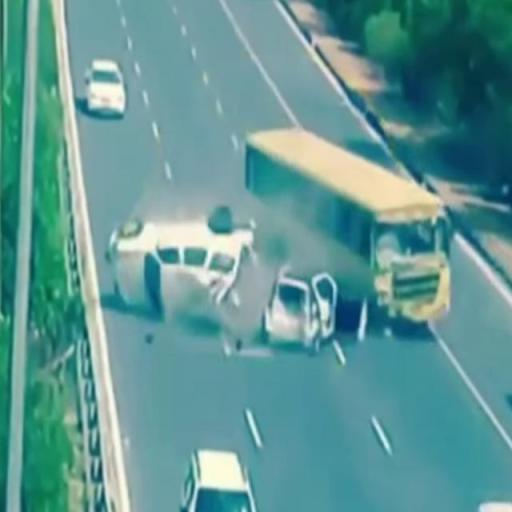小汽车: (240, 132, 450, 324), (82, 56, 128, 118)
小汽车撞小汽车: (108, 213, 340, 346), (178, 445, 259, 512)
